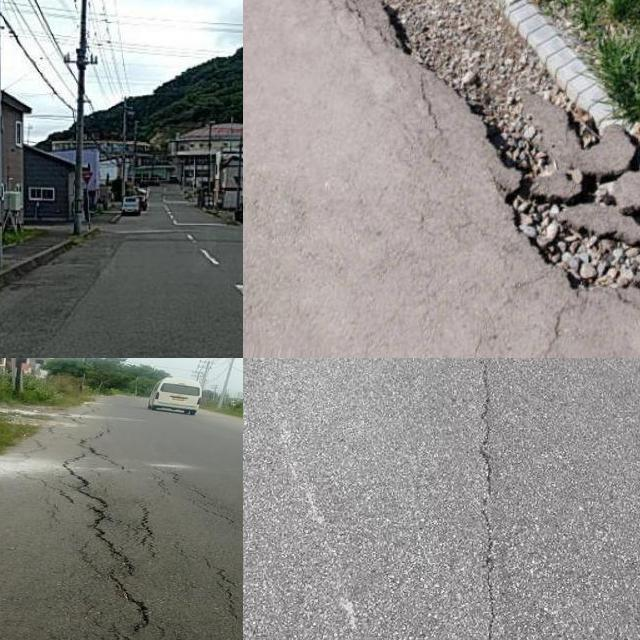Memanjang: (50, 421, 173, 640), (468, 358, 525, 640)
Pinggir: (341, 0, 640, 295)
